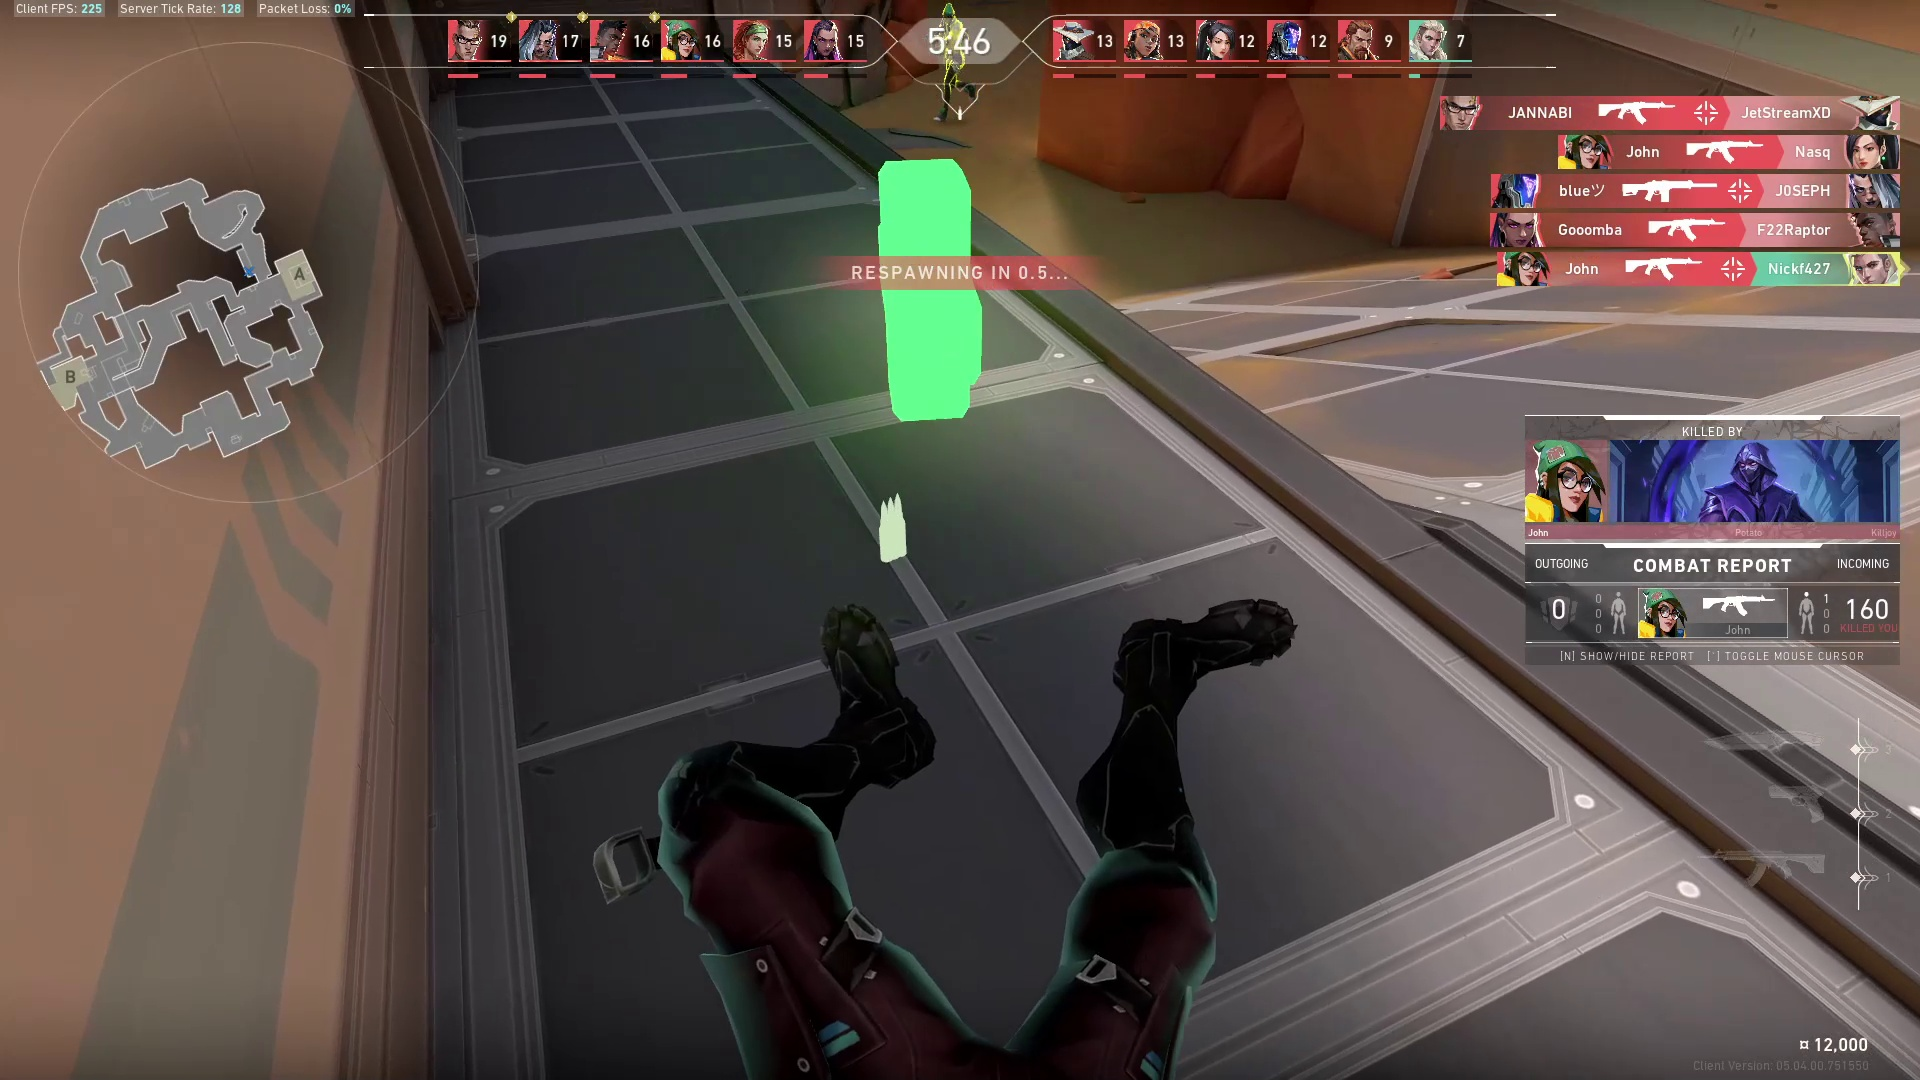enemy_gen: (928, 65, 982, 125)
